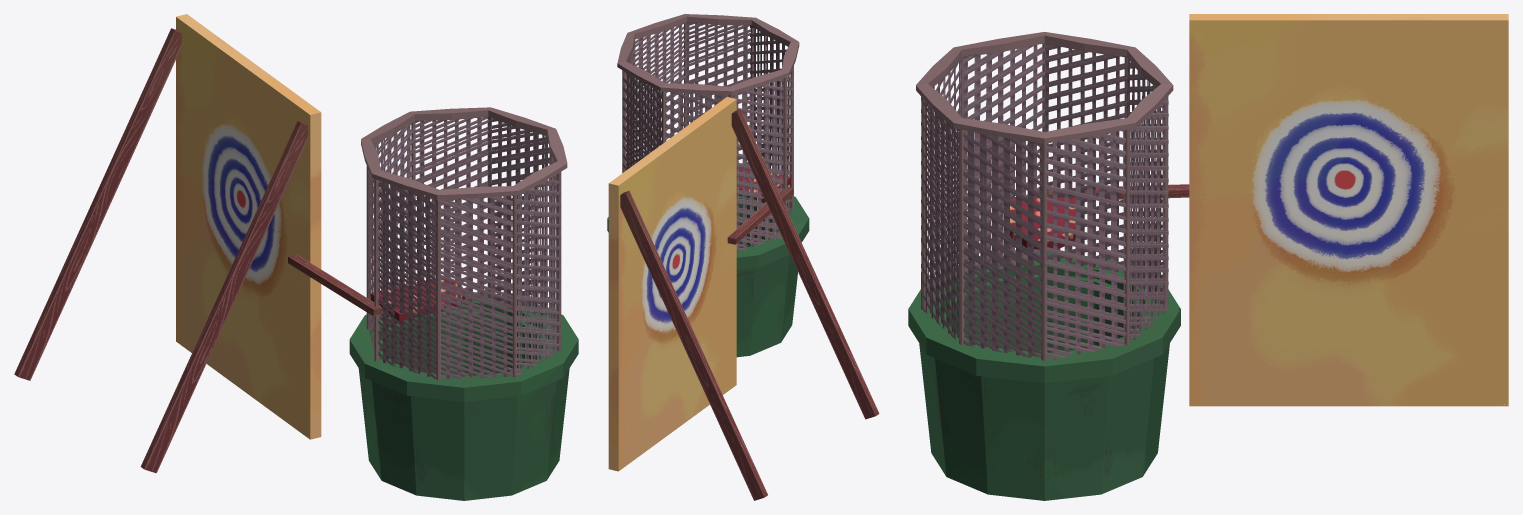
The model's file is Dunk_tank_game01.fbx.
3 renders of one model, left to right at view 1: azimuth 30°, elevation 25°; view 2: azimuth 150°, elevation 25°; view 3: azimuth 270°, elevation 25°, orthographic. The views are drawn at different scales.
Parts seen in each view (by area): view 1: Tank_blink01, Tank01, Tank_outer_walls01, Tank_inner_walls01, Tank_plank, Tank _top01, Tank_corners01, Tank_seat01; view 2: Tank_blink01, Tank_plank, Tank_outer_walls01, Tank_inner_walls01, Tank01, Tank _top01, Tank_corners01; view 3: Tank_blink01, Tank01, Tank_outer_walls01, Tank_inner_walls01, Tank _top01, Tank_corners01, Tank_seat01.
Part boxes in pixels (x1,y1,x2,y2): Tank_blink01: (176, 14, 321, 439); Tank01: (349, 292, 578, 500); Tank_outer_walls01: (368, 117, 560, 379); Tank_inner_walls01: (371, 116, 556, 377); Tank_plank: (14, 28, 381, 473); Tank _top01: (361, 107, 567, 199); Tank_corners01: (366, 116, 561, 380); Tank_seat01: (370, 279, 465, 321); Tank_blink01: (608, 97, 736, 471); Tank_plank: (620, 109, 879, 500); Tank_outer_walls01: (622, 23, 793, 251); Tank_inner_walls01: (626, 22, 789, 247); Tank01: (607, 21, 809, 357); Tank _top01: (617, 14, 799, 94); Tank_corners01: (622, 21, 793, 209); Tank_blink01: (1189, 14, 1508, 406); Tank01: (908, 56, 1180, 500); Tank_outer_walls01: (921, 44, 1168, 360); Tank_inner_walls01: (926, 43, 1162, 357); Tank _top01: (916, 32, 1173, 143); Tank_corners01: (921, 43, 1167, 360); Tank_seat01: (1010, 197, 1075, 249).
Size of the model in its own units: 648 by 565 by 796.
Materials: 6 (5 with a texture image).
